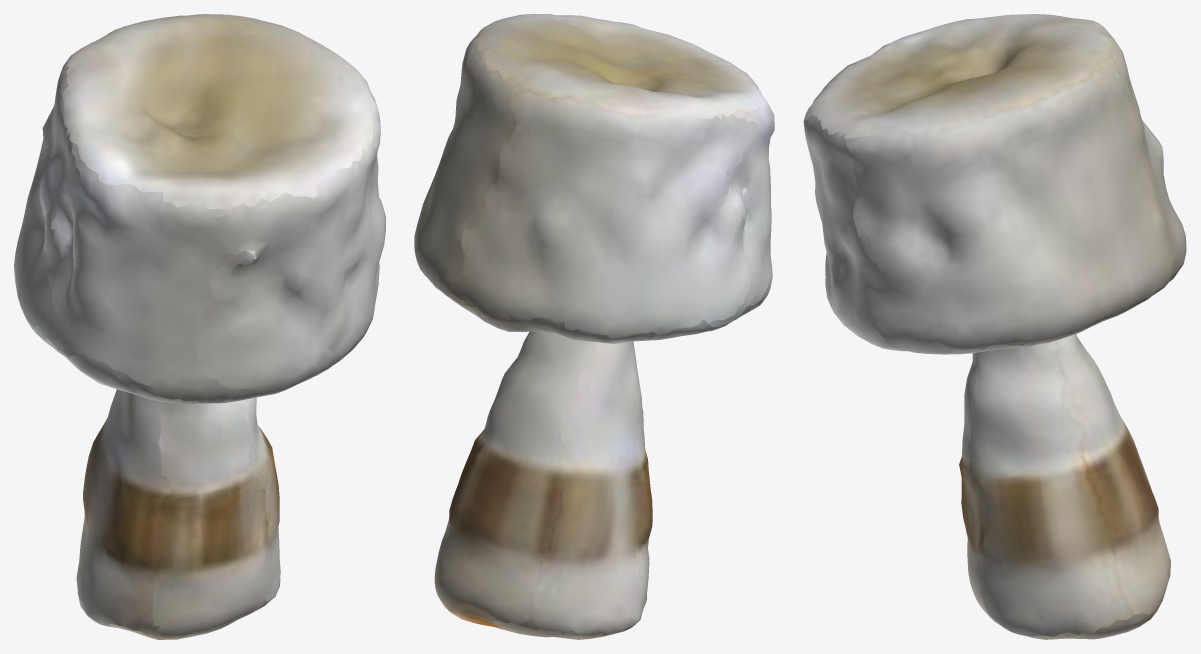
File: 19_lamp.glb
3 renders of one model, left to right at view 1: azimuth 30°, elevation 25°; view 2: azimuth 150°, elevation 25°; view 3: azimuth 270°, elevation 25°, orthographic. The views are drawn at different scales.
Parts seen in each view (by area): view 1: 19_lamp; view 2: 19_lamp; view 3: 19_lamp.
Boxes of the visible parts, x1=… form: 19_lamp: x1=14, y1=14, x2=385, y2=639; 19_lamp: x1=414, y1=14, x2=774, y2=639; 19_lamp: x1=803, y1=14, x2=1186, y2=639.
Size of the model in its own units: 0.4525 by 0.7947 by 0.4822.
Materials: 1 (1 with a texture image).
